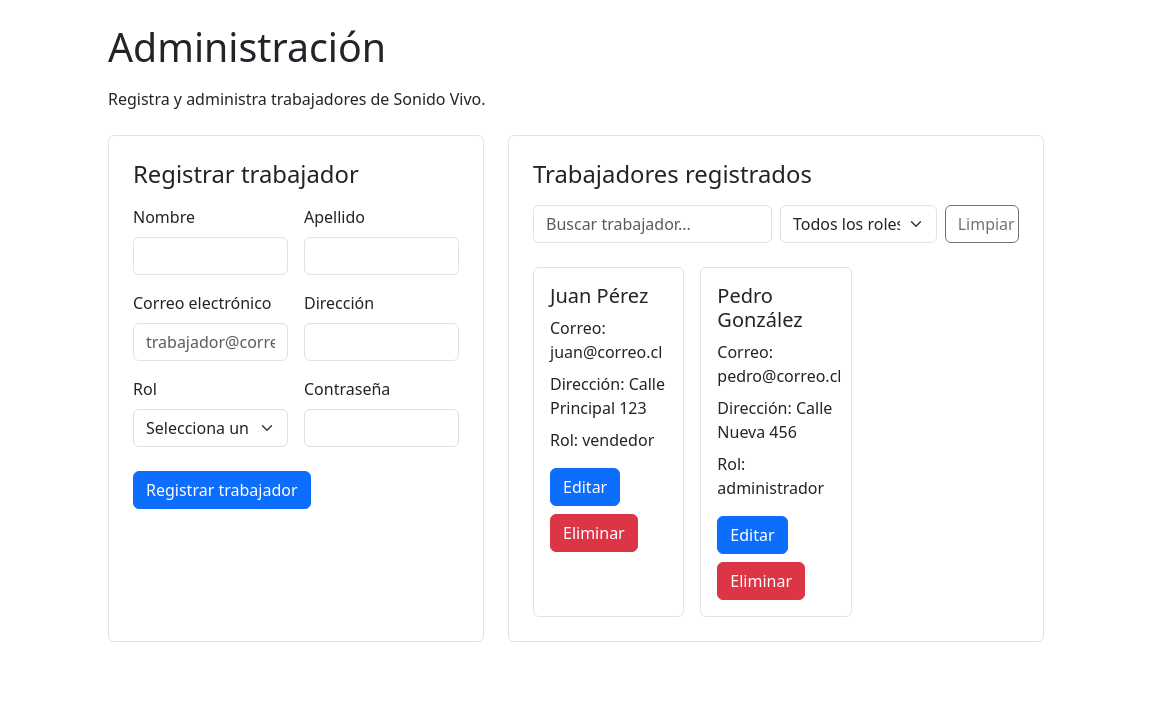
Admin › elimina un trabajador y actualiza localStorage
This screenshot has width=1152, height=720.
Check: the heading "Juan Pérez" is shown, box [550,282,648,309]
Check: the heading "Pedro González" is shown, box [717,282,803,333]
// Elimina al primer trabajador
Click the button "Eliminar" below "vendedor".
click(594, 533)  # box [550,514,638,552]
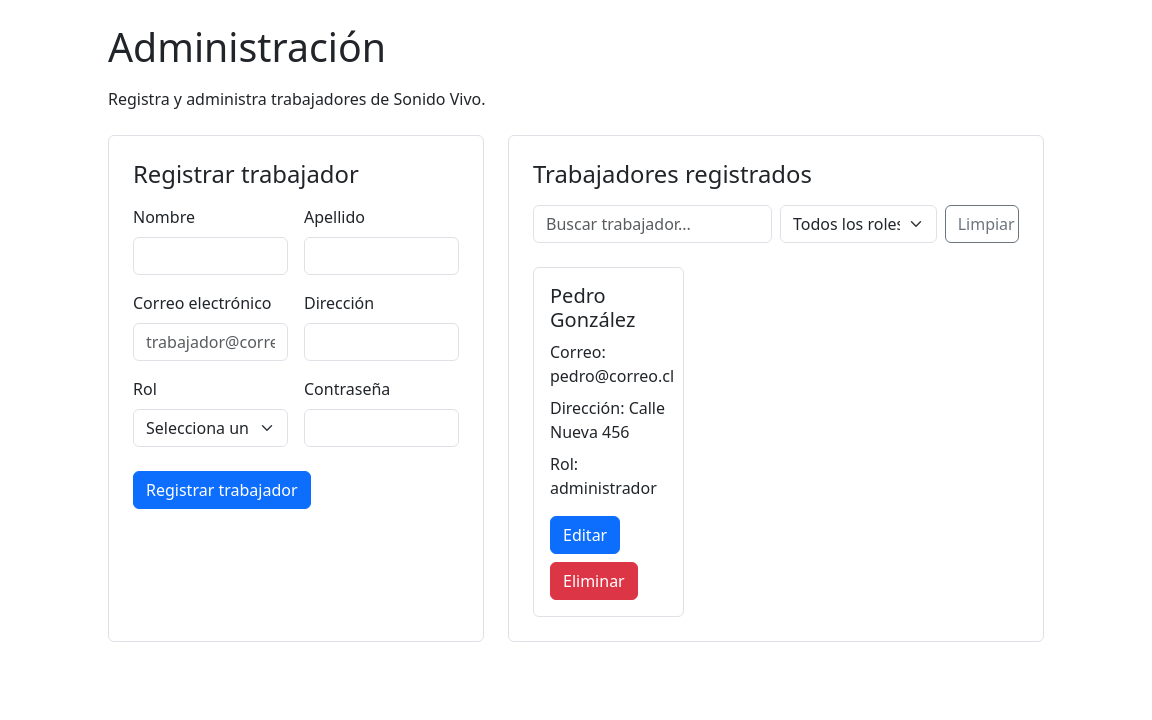
Check: the heading "Pedro González" is shown, box [550,282,635,333]
Check: the heading "Juan Pérez" is gone
